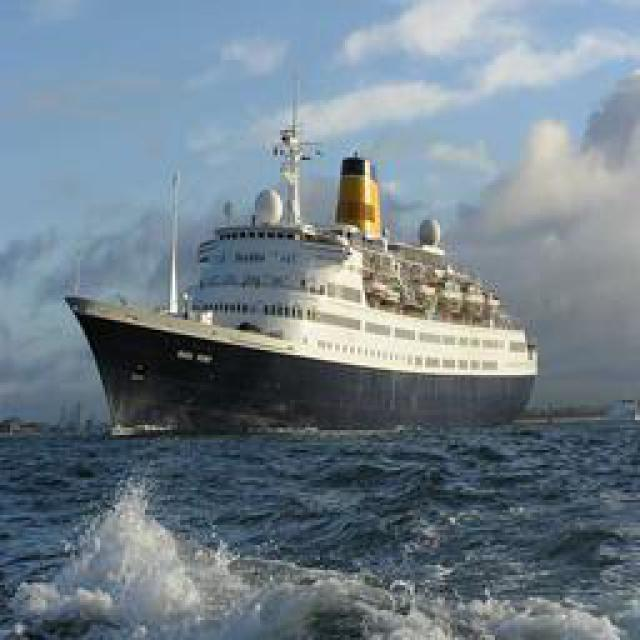Ship: (70, 142, 535, 435)
